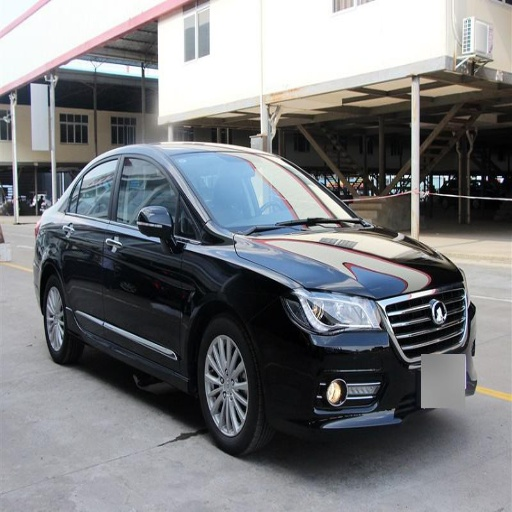front_bumper: (259, 287, 473, 435)
front_right_door: (105, 152, 198, 364)
front_right_light: (285, 288, 381, 333)
